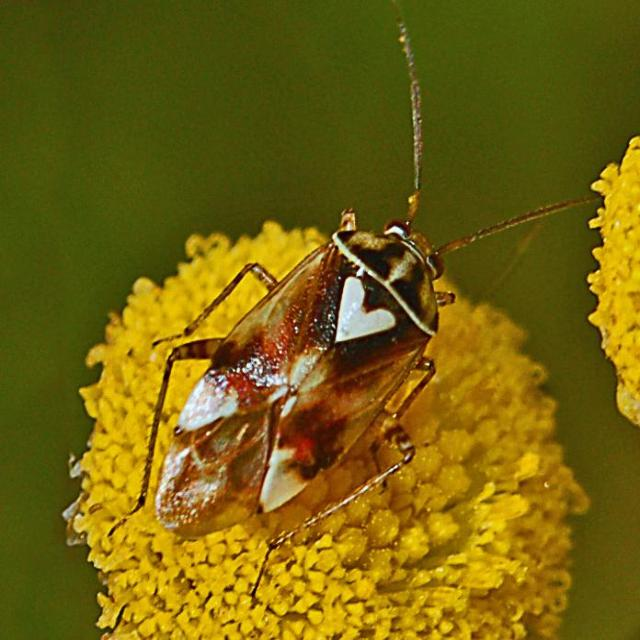Miridae-Adult-: (125, 17, 546, 552)
